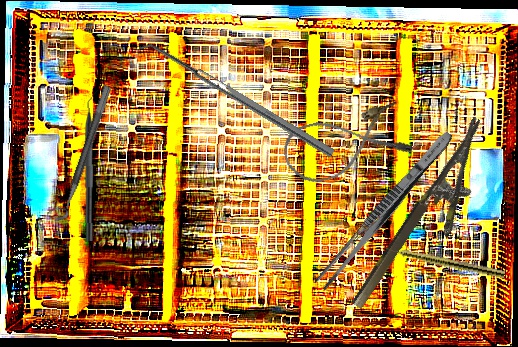Cannula: (278, 98, 415, 190)
Chopper: (83, 90, 103, 241)
Dressing Forceps: (313, 126, 457, 294)
Fixation Ring: (45, 81, 113, 224)
Handpiece: (379, 242, 506, 280)
Needle Holder: (349, 116, 512, 327)
Spatula Surgical: (137, 36, 335, 166)
